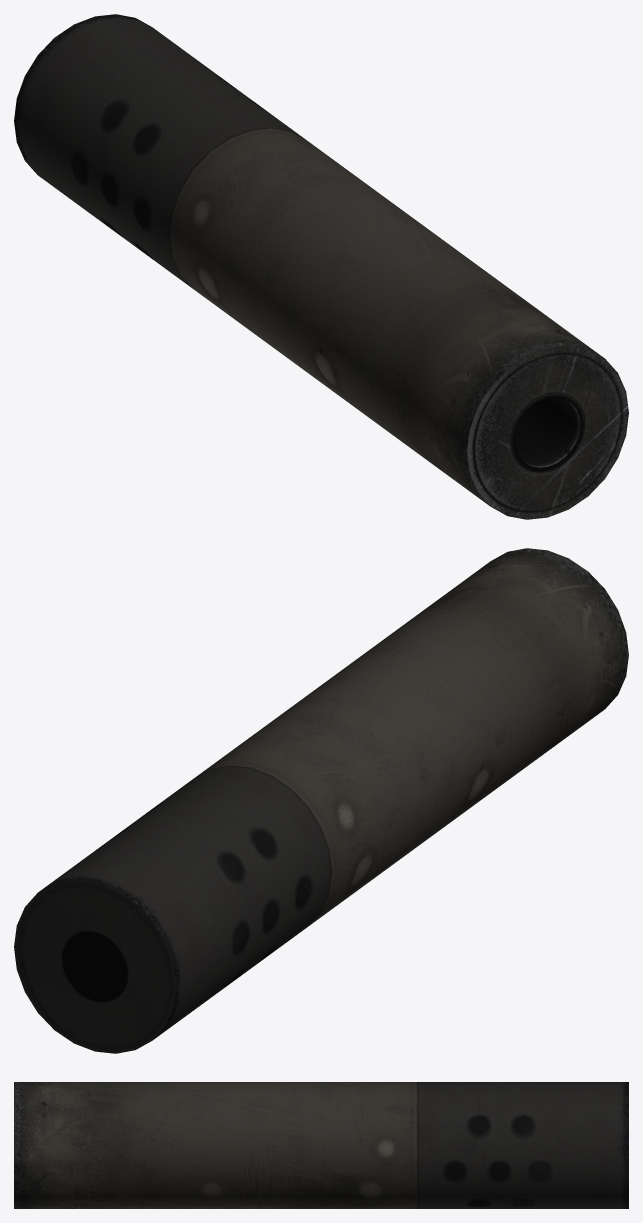
File: m4a1_Silencer.FBX
The picture shows the model from 3 angles, top to bottom: view 1: azimuth 30°, elevation 25°; view 2: azimuth 150°, elevation 25°; view 3: azimuth 270°, elevation 25°; orthographic projection. The views are drawn at different scales.
Visible parts, largest first — view 1: m4a1_Silencer; view 2: m4a1_Silencer; view 3: m4a1_Silencer.
Boxes of the visible parts, x1=… form: m4a1_Silencer: x1=14, y1=14, x2=628, y2=519; m4a1_Silencer: x1=14, y1=548, x2=628, y2=1053; m4a1_Silencer: x1=14, y1=1082, x2=628, y2=1208.
Size of what is drawn, in the model's own units: 32.24 by 32.24 by 156.
Materials: 1 (1 with a texture image).
